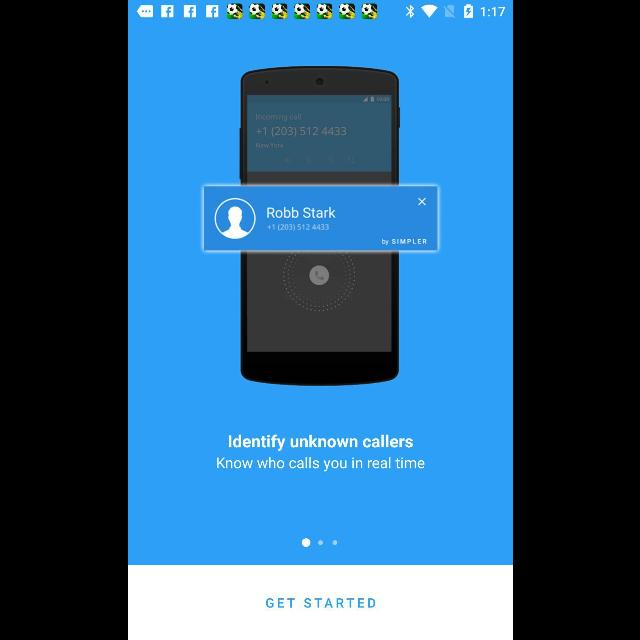image: (202, 66, 438, 387)
pageindicator: (300, 538, 338, 548)
text: (216, 434, 424, 472)
textbutton: (128, 566, 512, 640)
uppertaskbar: (128, 1, 512, 20)
